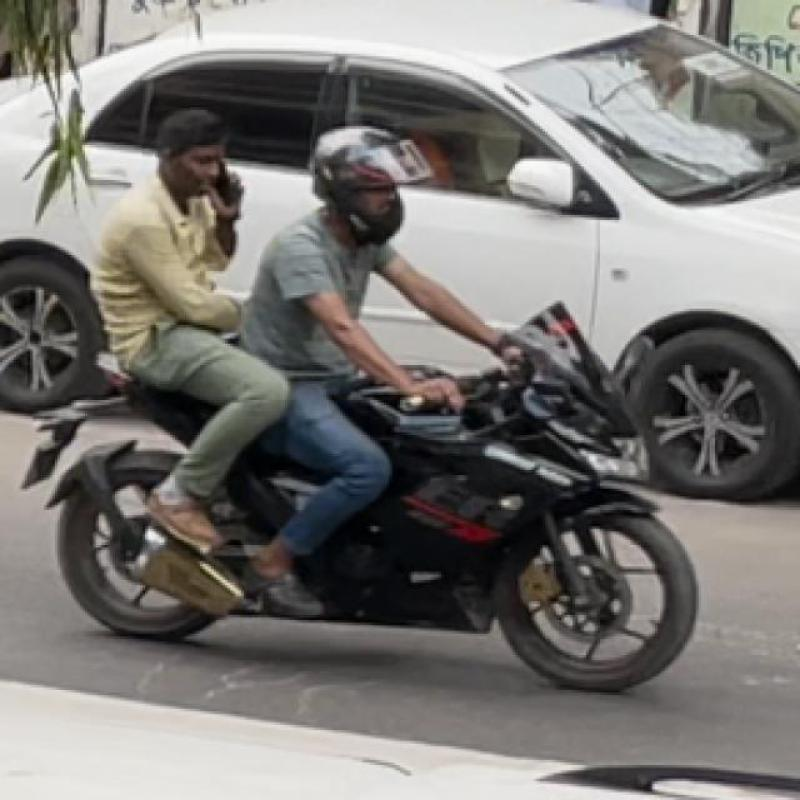nohelmet: (142, 102, 238, 213)
